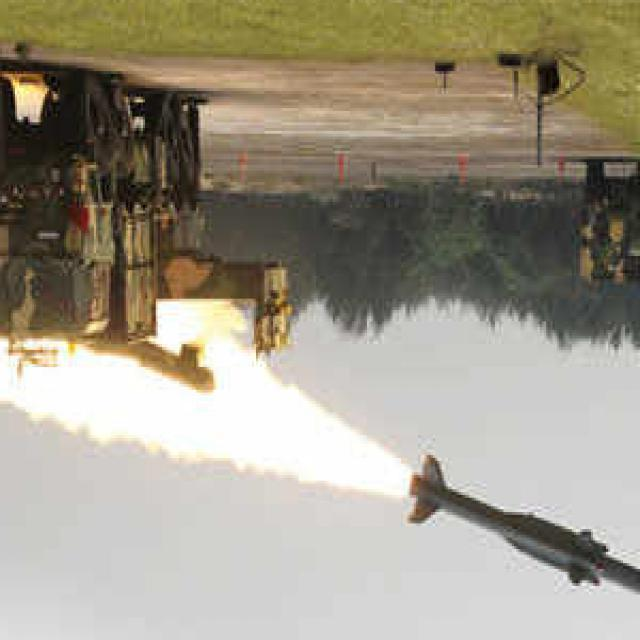missile: (408, 455, 640, 604)
